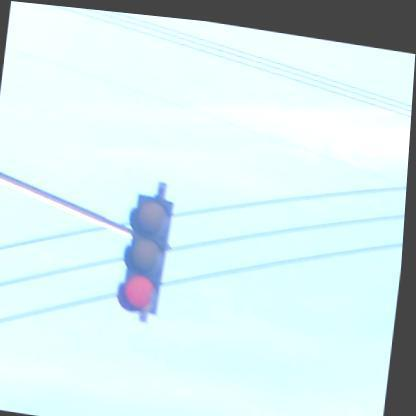red: (118, 188, 179, 314)
